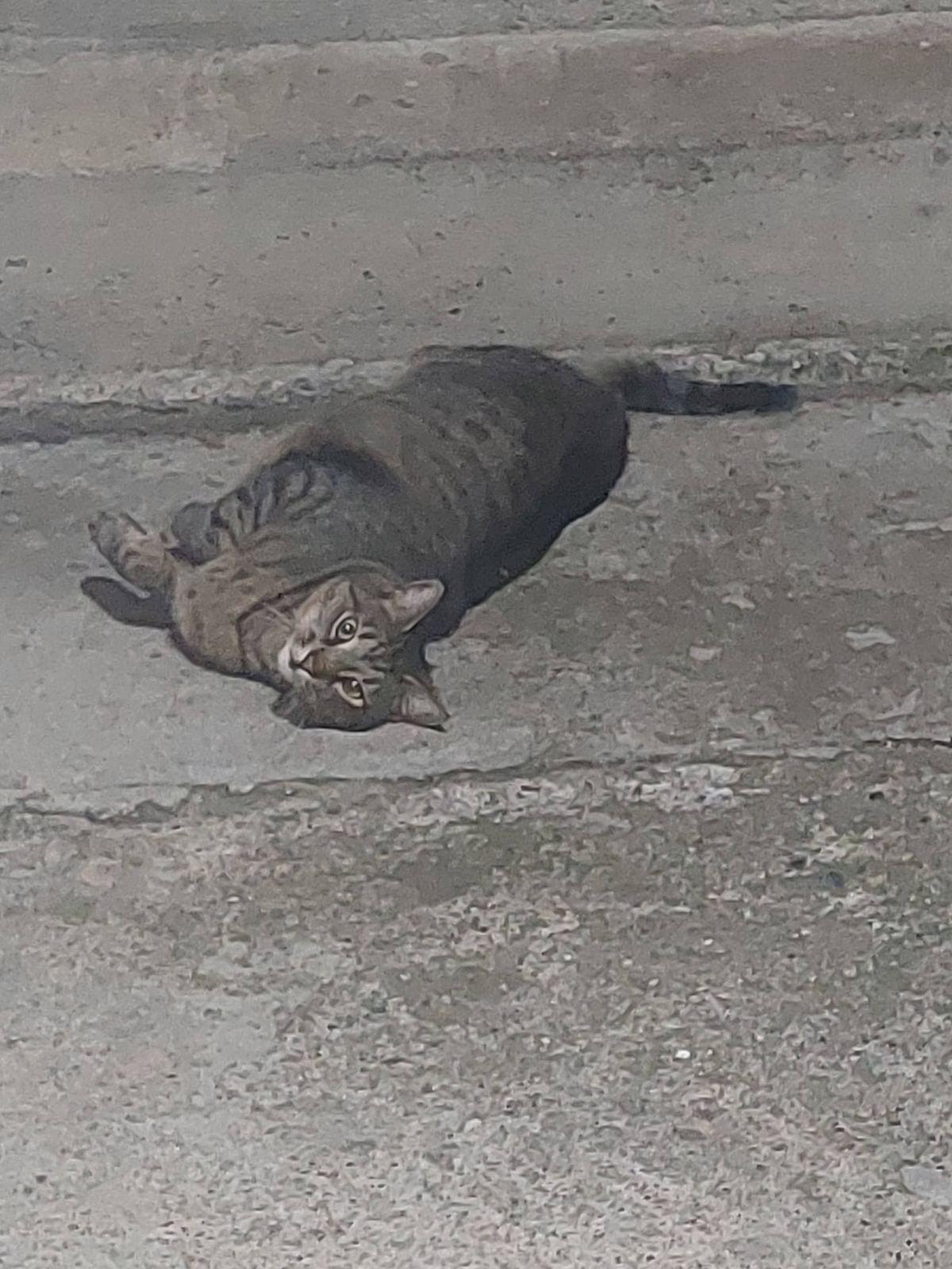macka: (90, 345, 800, 730)
